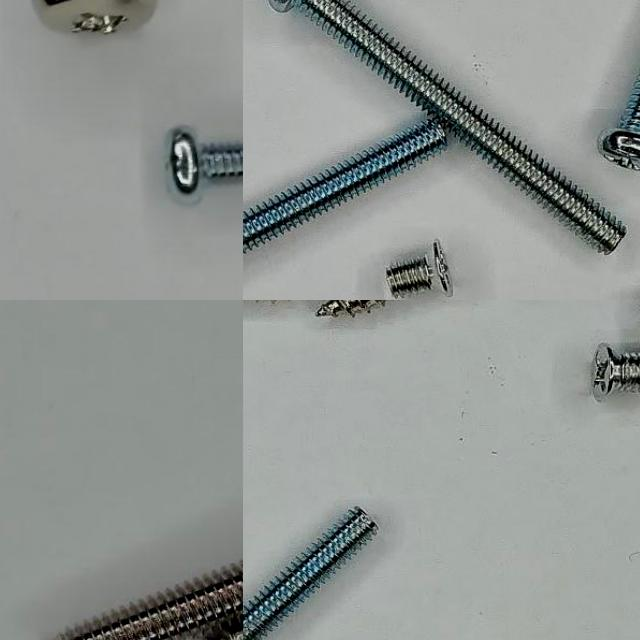Screw: (269, 0, 628, 254), (243, 120, 447, 252), (243, 508, 377, 640), (70, 564, 243, 640), (168, 129, 243, 205), (386, 240, 453, 299), (35, 0, 153, 33), (600, 77, 640, 170), (593, 344, 640, 400)
